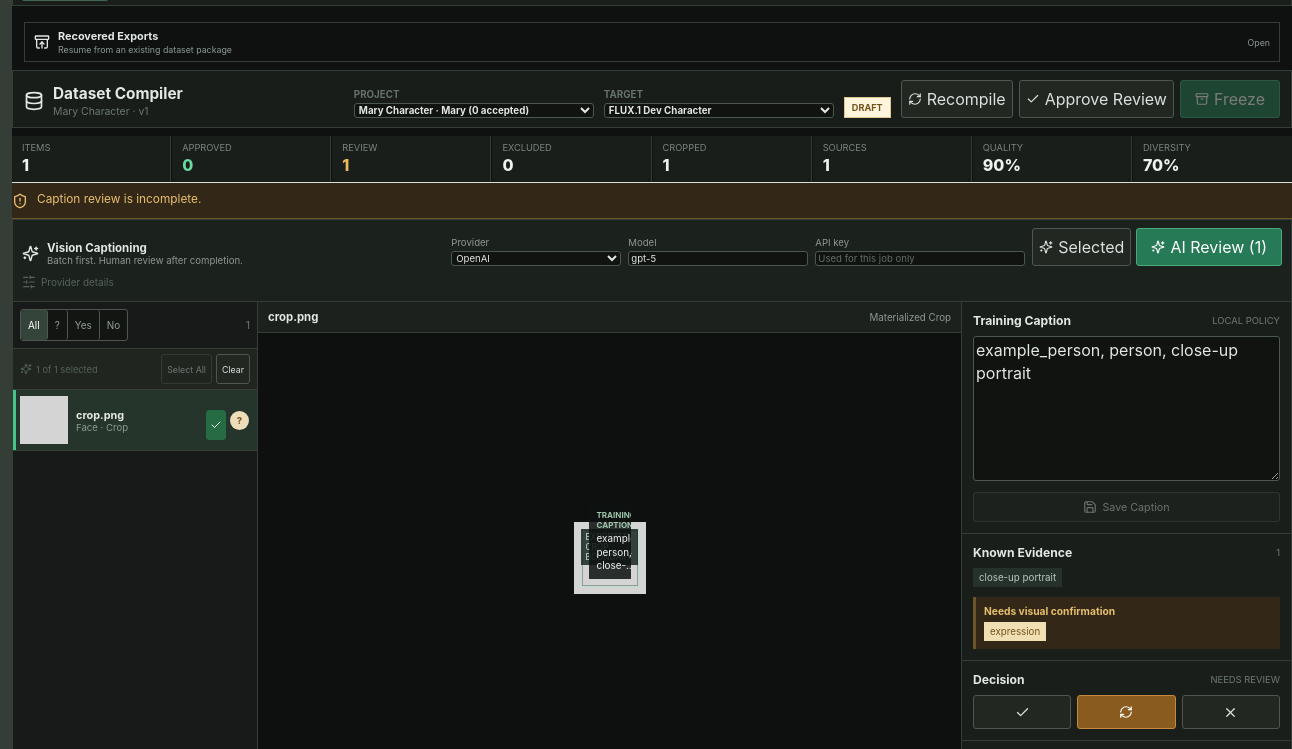
Test: TrainTab › approves the review queue, freezes it, and exports the frozen version
Click the button "Approve Review": click(1096, 99) top-left (1019, 80), bottom-right (1174, 118)
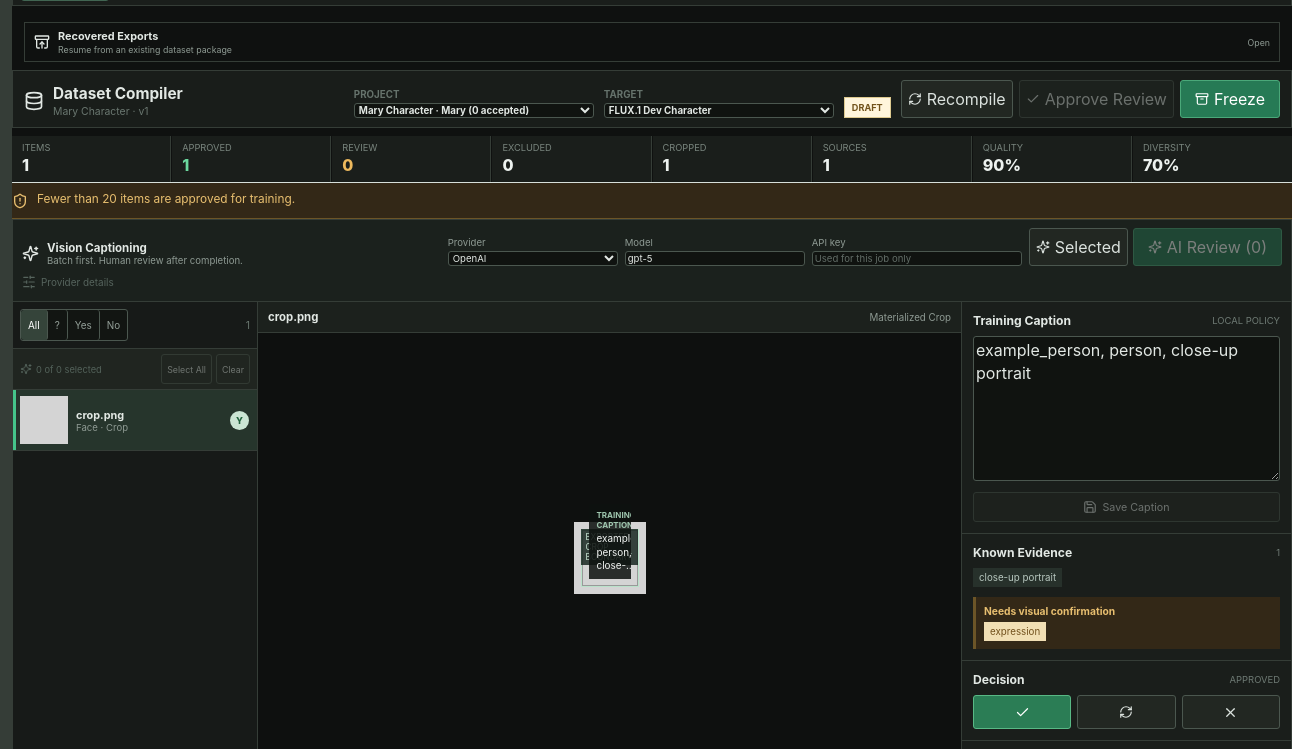
Click the button "Freeze": click(1230, 99) top-left (1180, 80), bottom-right (1280, 118)
(page scrolled)
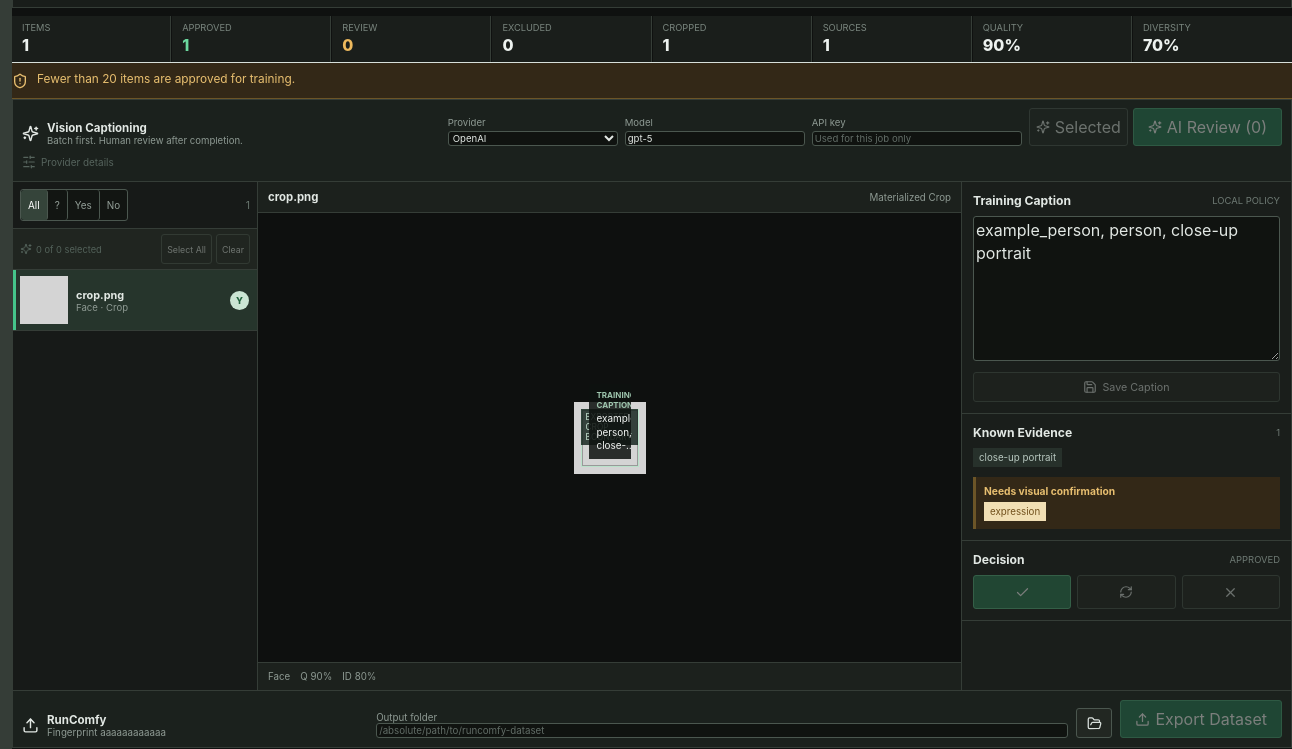
In the field labelled "Output folder": (722, 730) top-left (376, 723), bottom-right (1068, 738), type "/tmp/runcomfy"
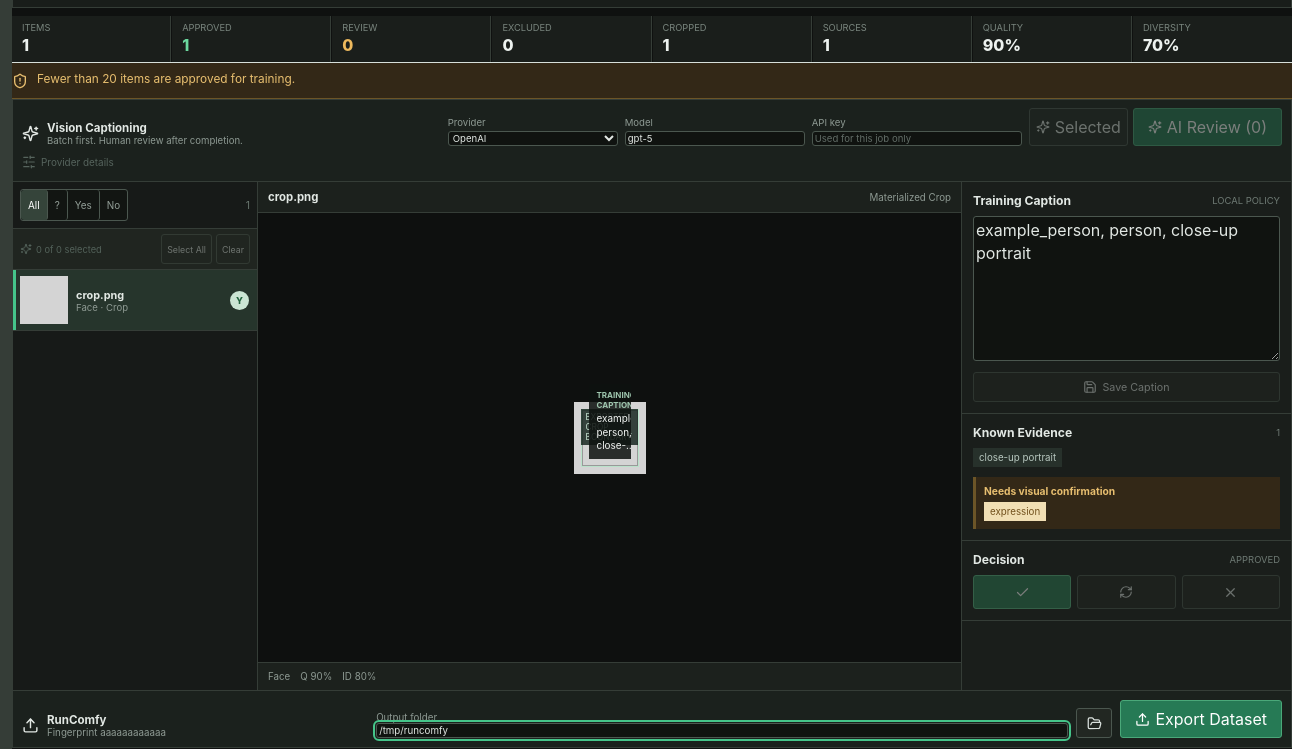
Click the button "Export Dataset": click(1201, 719) top-left (1120, 700), bottom-right (1282, 738)
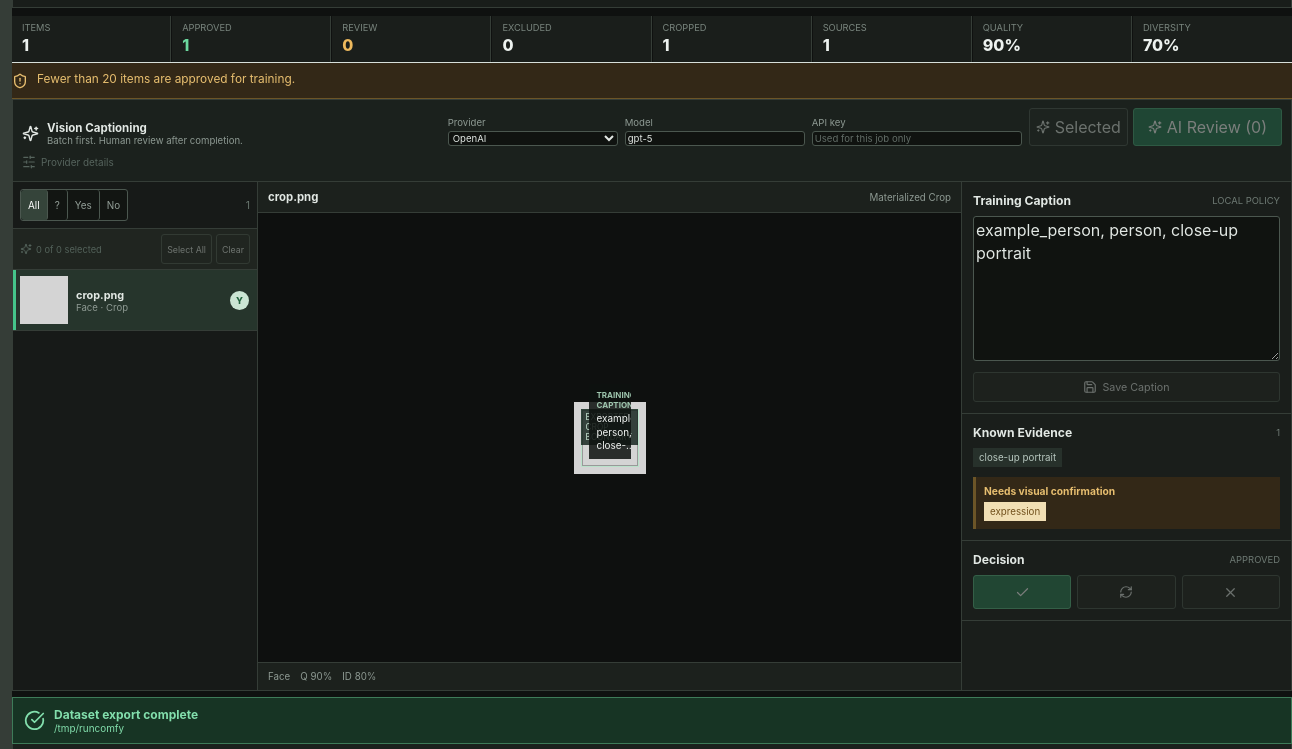
Expected: the element "Dataset export complete" shows "/tmp/runcomfy", top-left (54, 722), bottom-right (124, 734)
